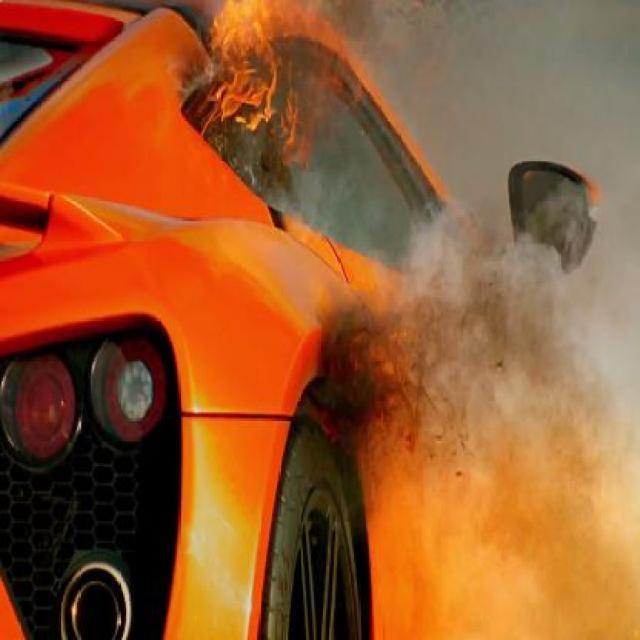Fire: (158, 0, 382, 172)
Smoke: (387, 207, 632, 492), (362, 2, 632, 208)
